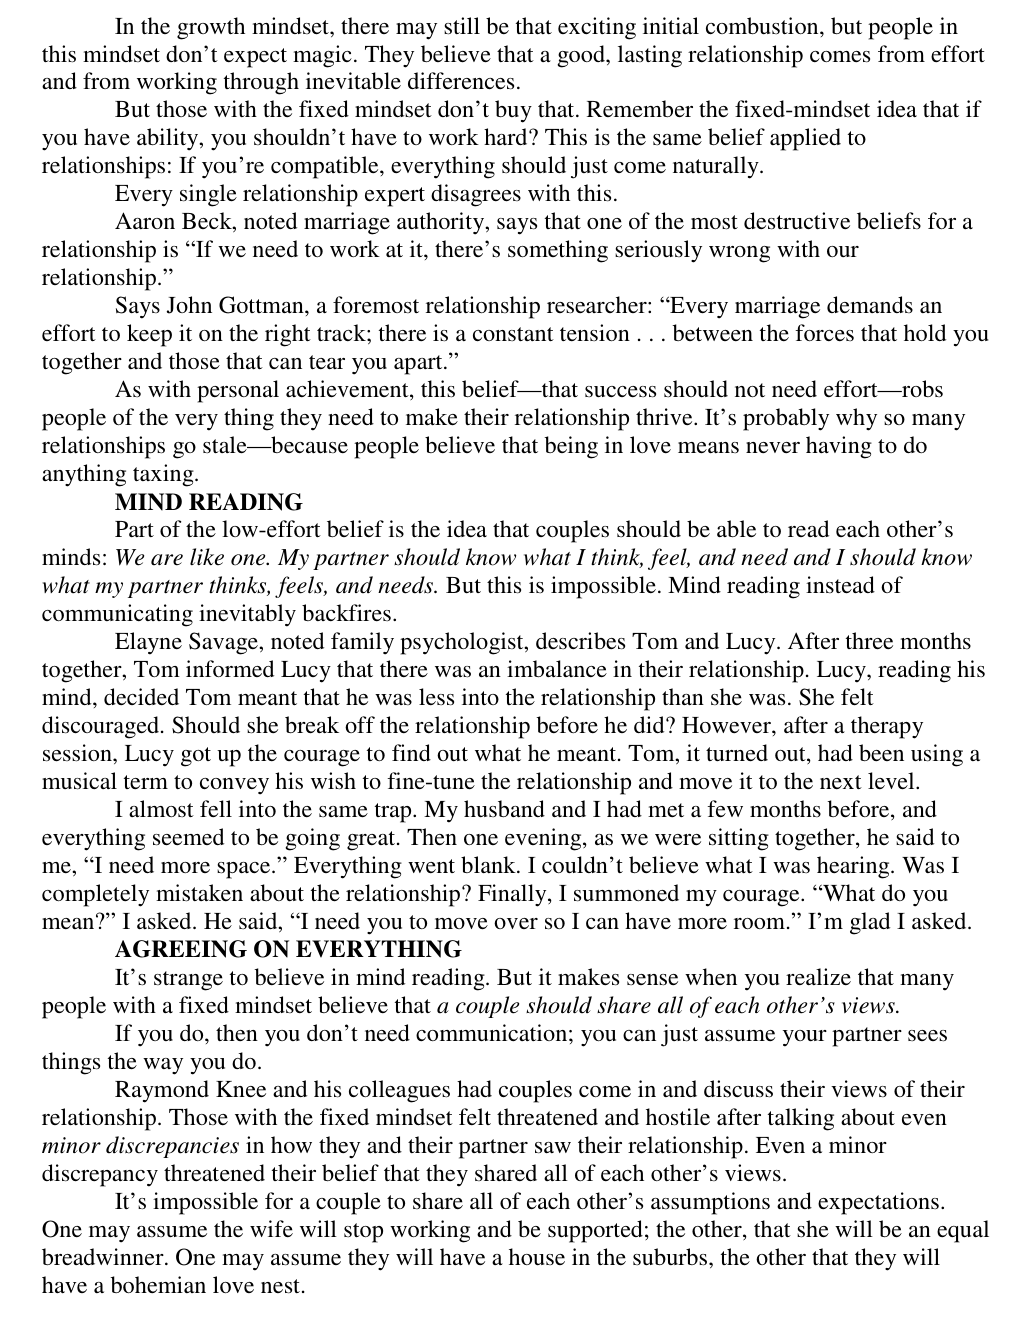latin: (35, 961, 966, 1186), (33, 292, 988, 485), (38, 100, 995, 292), (34, 628, 986, 793), (29, 793, 975, 936), (35, 510, 973, 627), (35, 1187, 995, 1296), (39, 16, 989, 100), (109, 936, 463, 961), (113, 485, 306, 510)
